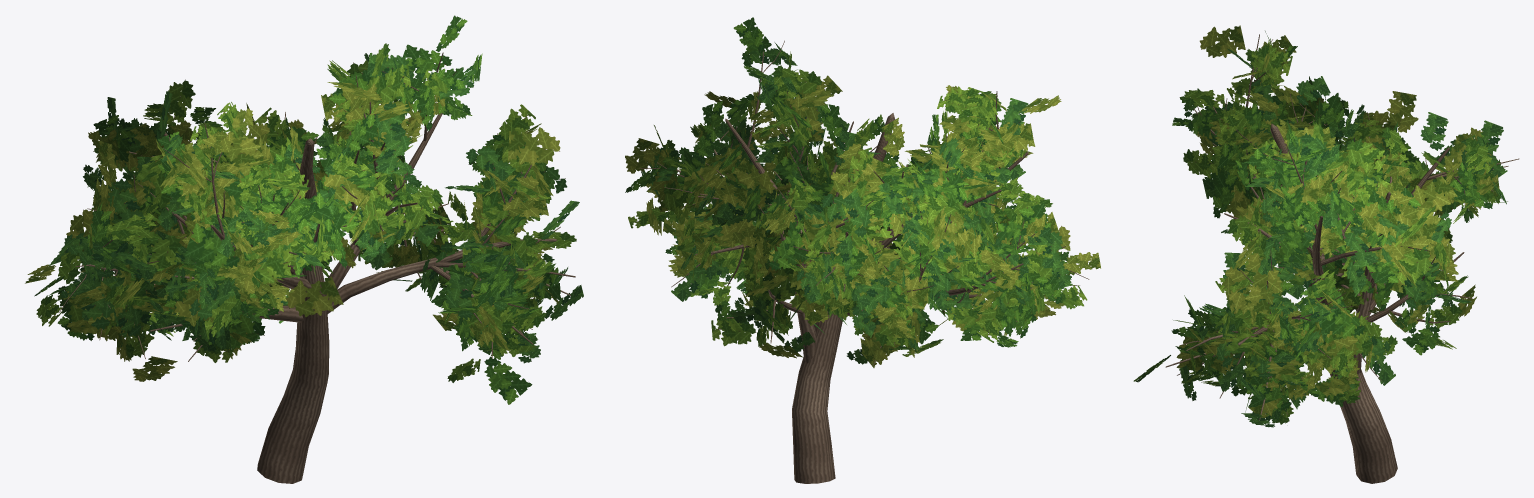
The model's file is hero_oak_b.obj.
3 renders of one model, left to right at view 1: azimuth 30°, elevation 25°; view 2: azimuth 150°, elevation 25°; view 3: azimuth 270°, elevation 25°, orthographic. The views are drawn at different scales.
Visible parts, largest first — view 1: hero_oak_b; view 2: hero_oak_b; view 3: hero_oak_b.
Boxes of the visible parts, x1,y1,x2,y2 form: hero_oak_b: [25, 15, 583, 483]; hero_oak_b: [625, 17, 1100, 483]; hero_oak_b: [1133, 25, 1519, 483].
Bounding box in the file's own units: 12.5 × 10.36 × 8.85.
Materials: 2 (2 with a texture image).
